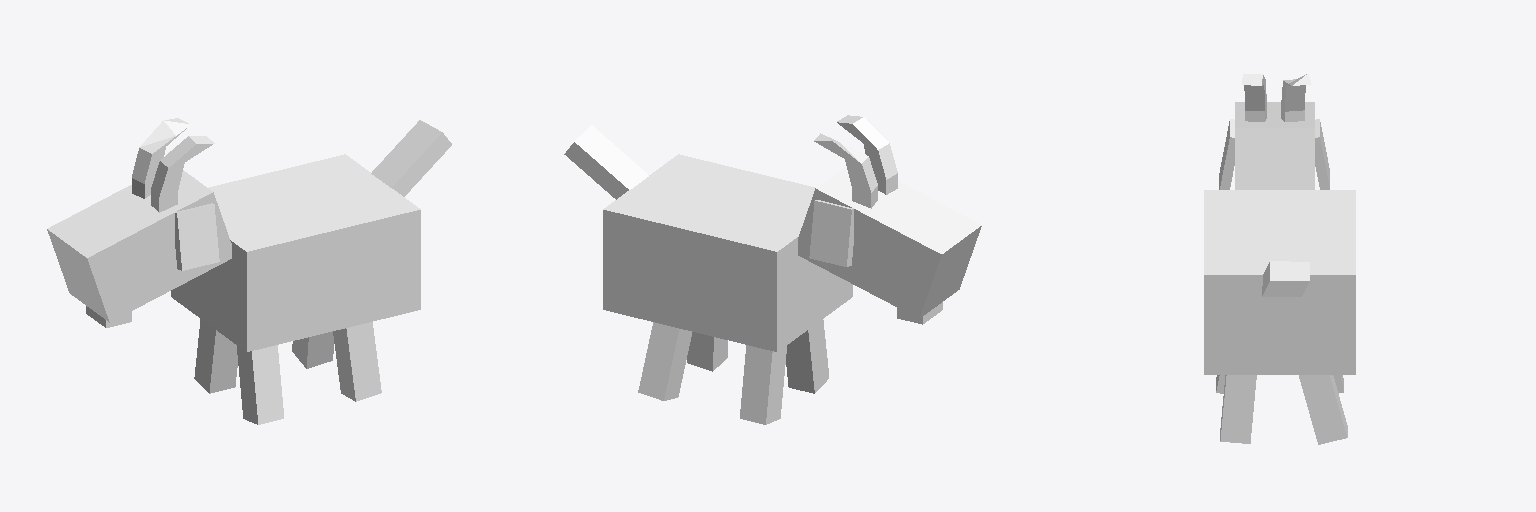
File: goat.obj
The picture shows the model from 3 angles: view 1: azimuth 30°, elevation 25°; view 2: azimuth 150°, elevation 25°; view 3: azimuth 270°, elevation 25°; orthographic projection.
Visible parts, largest first — view 1: default001; view 2: default001; view 3: default001.
Boxes of the visible parts, x1=… form: default001: x1=47, y1=118, x2=451, y2=424; default001: x1=564, y1=115, x2=981, y2=424; default001: x1=1204, y1=74, x2=1355, y2=444.
Bounding box in the file's own units: 4.39 × 3.17 × 1.5.